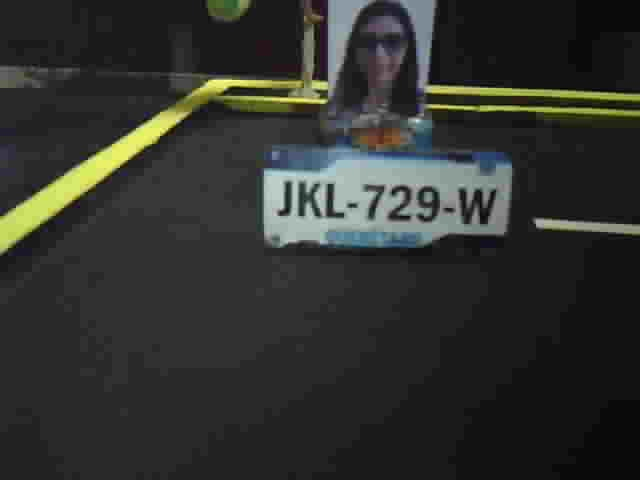PLACA: (260, 142, 516, 257)
ROSTRO: (330, 1, 423, 128)
